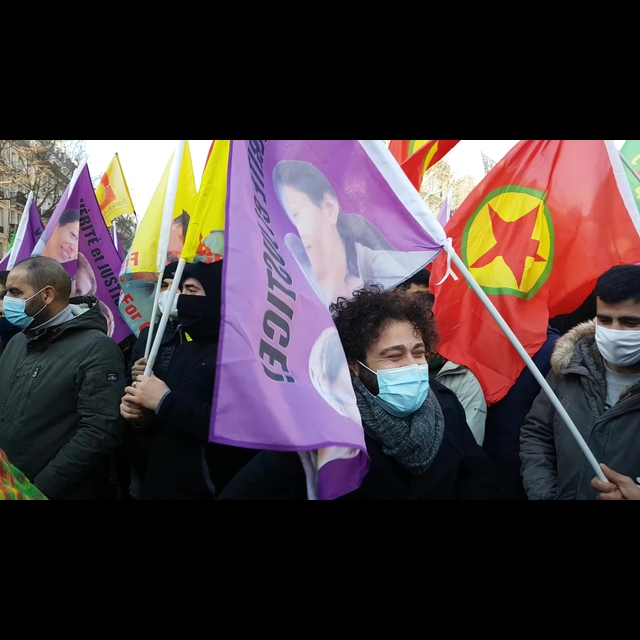PKK: (443, 167, 568, 310)
